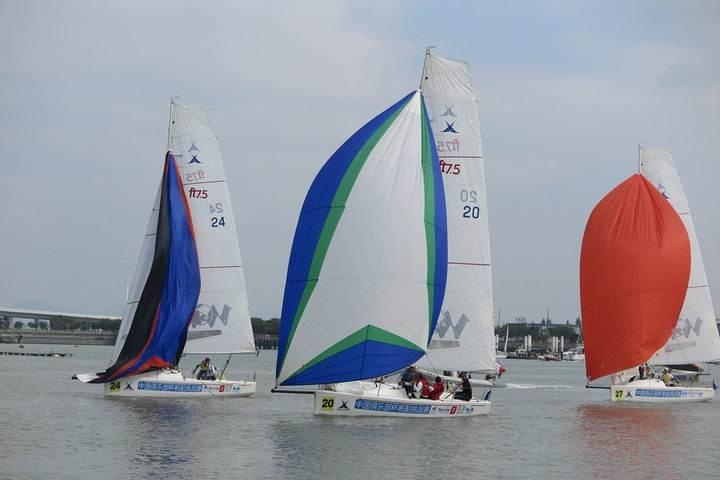fanchuan: (272, 49, 549, 425), (78, 92, 264, 400), (574, 138, 720, 414)
